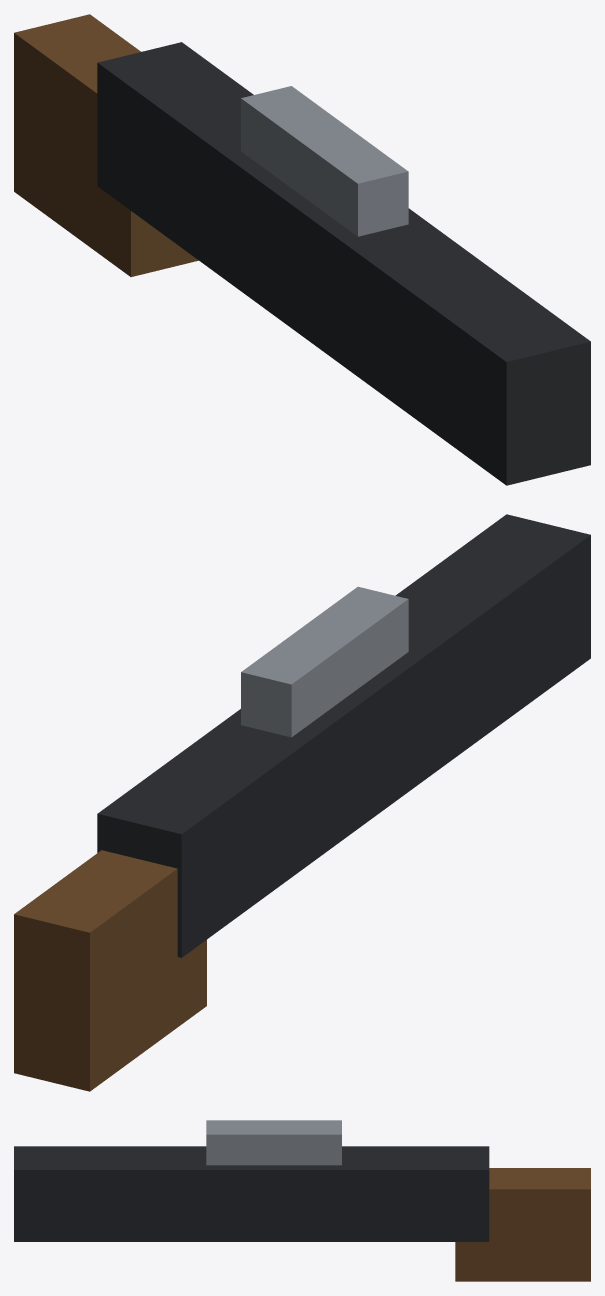
Rendered from fw_rifle.glb.
3 renders of one model, top to bottom at view 1: azimuth 30°, elevation 25°; view 2: azimuth 150°, elevation 25°; view 3: azimuth 270°, elevation 25°, orthographic. The views are drawn at different scales.
Parts seen in each view (by area): view 1: fw_rifle; view 2: fw_rifle; view 3: fw_rifle.
Boxes of the visible parts, x1,y1,x2,y2 form: fw_rifle: [14, 14, 590, 485]; fw_rifle: [14, 514, 590, 1091]; fw_rifle: [14, 1120, 590, 1281].
Size of the model in its own units: 0.05 by 0.14 by 0.51.
